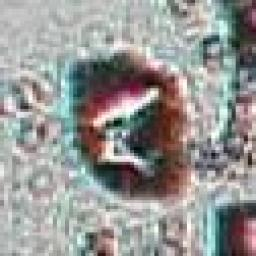crystals: (77, 43, 191, 194)
